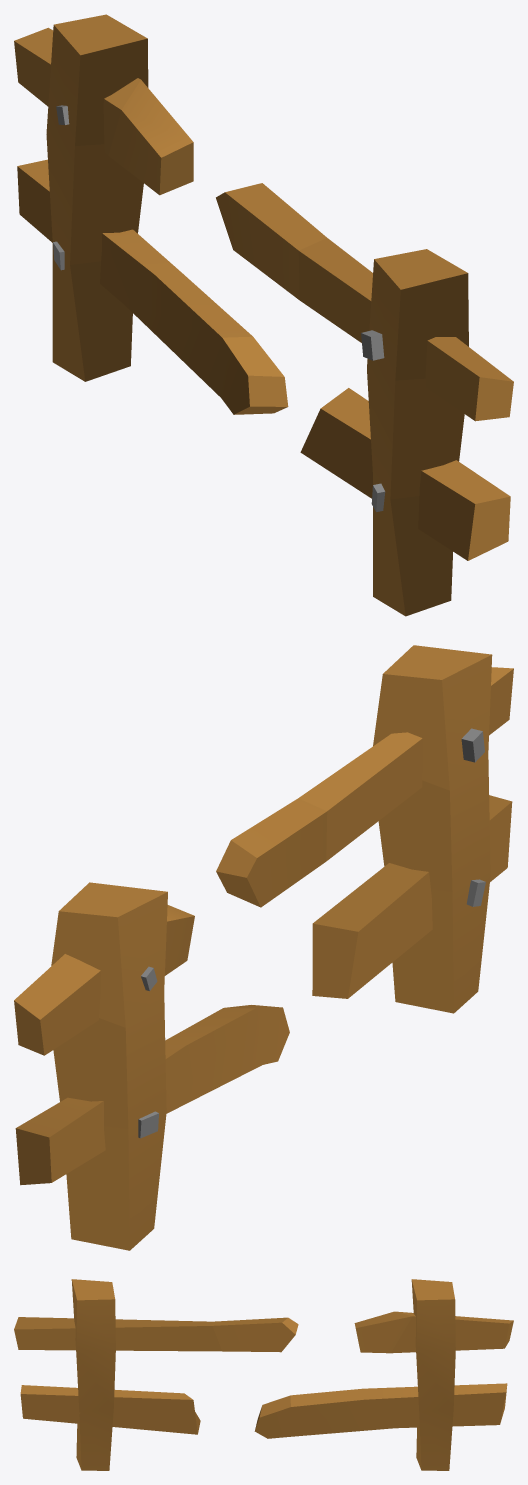
The model's file is Barrière_Cassée_03.fbx.
3 views of the same model, one above another, from view 1: azimuth 30°, elevation 25°; view 2: azimuth 150°, elevation 25°; view 3: azimuth 270°, elevation 25° (orthographic). The views are drawn at different scales.
Parts seen in each view (by area): view 1: Barrière_Cassée_03; view 2: Barrière_Cassée_03; view 3: Barrière_Cassée_03.
Boxes of the visible parts, bbox=[...] form: Barrière_Cassée_03: bbox=[14, 14, 513, 616]; Barrière_Cassée_03: bbox=[14, 645, 513, 1250]; Barrière_Cassée_03: bbox=[14, 1279, 513, 1470].
Bounding box in the file's own units: 39.98 × 143 × 368.
1 material, 1 textured.
